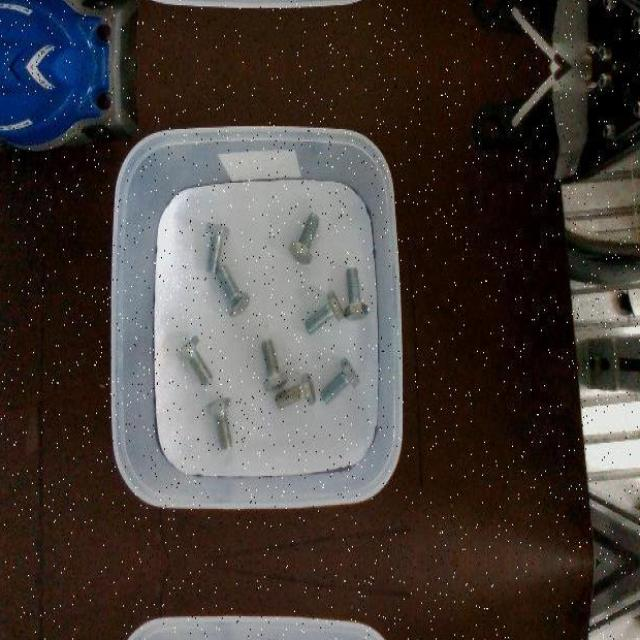screw: (319, 357, 359, 405), (176, 334, 212, 386), (304, 290, 345, 334), (217, 264, 250, 316), (289, 212, 320, 264), (276, 372, 317, 410), (206, 395, 234, 449), (261, 338, 288, 391), (206, 221, 232, 273), (344, 266, 368, 320)
